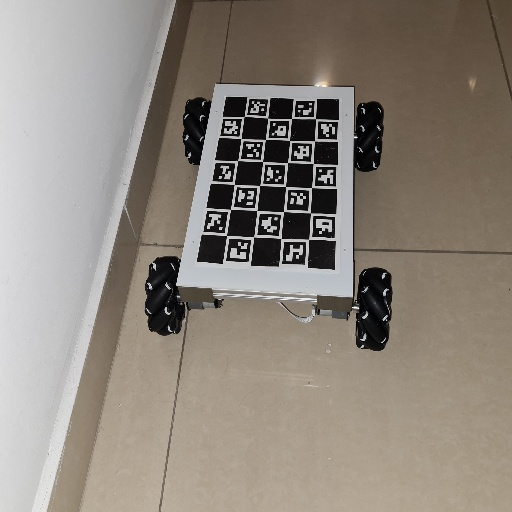Omniwheel: (142, 81, 394, 353)
